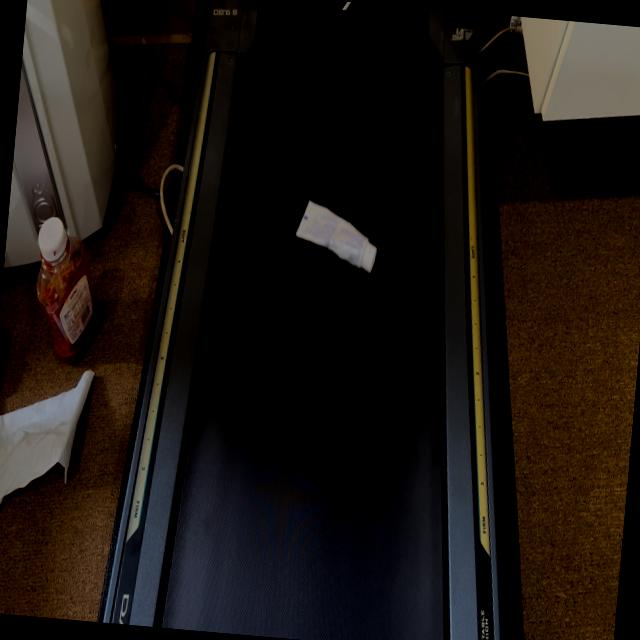Trash: (284, 195, 384, 282)
